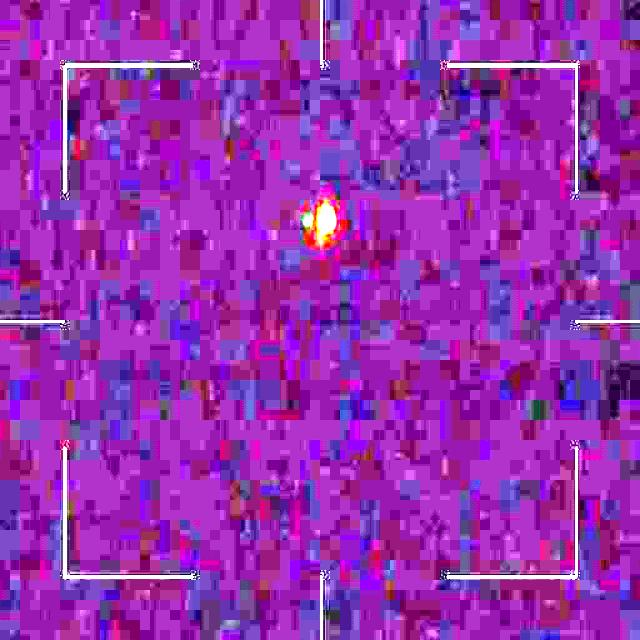bird: (301, 201, 338, 249)
